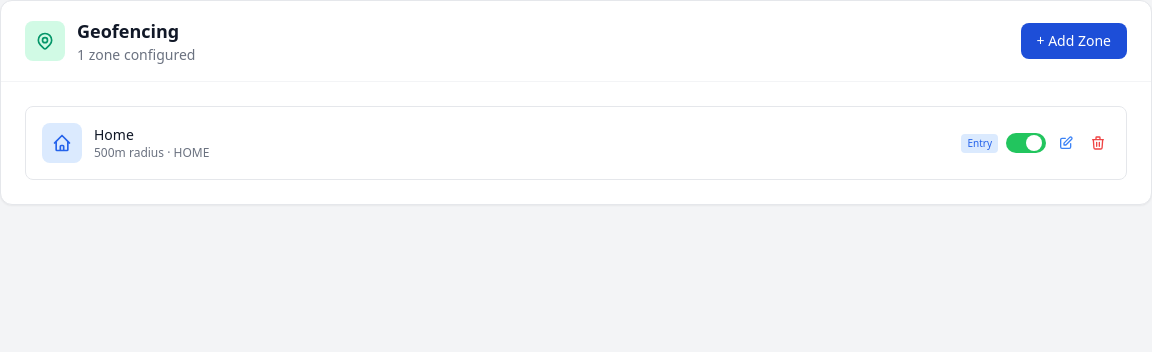
GeofenceSection edit › opens an inline edit form with prefilled values when the edit button is clicked
Click the button named "edit home": [1066, 143] box [1054, 131, 1078, 155]
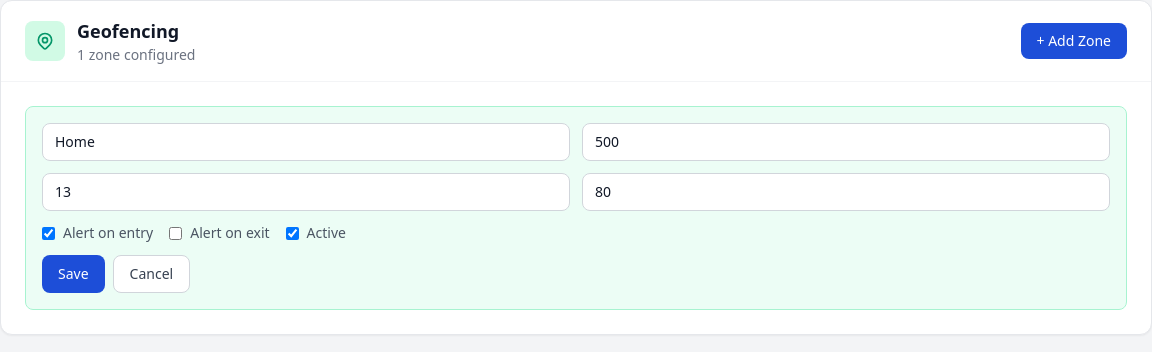
expect the form with test id "geofence-edit-form" is shown: met, box [42, 123, 1110, 293]
expect the field named "Zone name" holds "Home": met, box [42, 123, 570, 161]
expect the number field named "Latitude" holds "13": met, box [42, 173, 570, 211]
